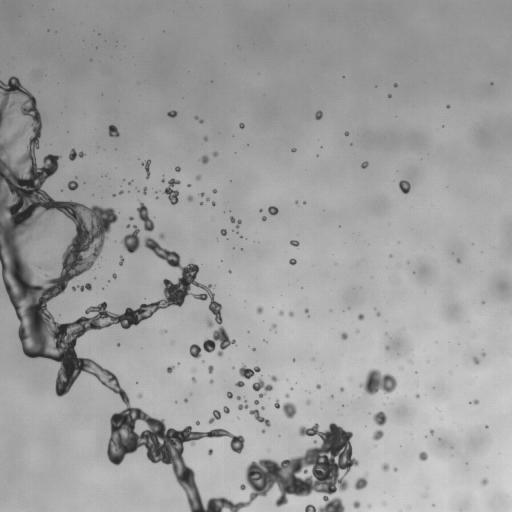droplet: (359, 369, 397, 395), (121, 225, 139, 253), (274, 399, 297, 418), (164, 178, 180, 204), (252, 378, 273, 397), (239, 364, 260, 379), (373, 411, 386, 425), (354, 476, 367, 490), (69, 149, 84, 160), (398, 180, 410, 193), (209, 410, 220, 423), (108, 125, 119, 137), (230, 216, 241, 228), (67, 180, 78, 190), (373, 430, 384, 440), (268, 206, 278, 215), (418, 451, 427, 461), (200, 155, 209, 163), (167, 110, 177, 117), (238, 402, 248, 409), (381, 463, 389, 471), (315, 110, 322, 119), (290, 240, 299, 247), (256, 306, 263, 314), (361, 161, 368, 168), (289, 258, 296, 265), (340, 332, 347, 339), (481, 478, 488, 485), (353, 501, 360, 508), (270, 375, 278, 381), (236, 381, 244, 387), (473, 357, 479, 364), (167, 366, 174, 372), (223, 406, 229, 413), (208, 365, 213, 373), (220, 229, 226, 235), (471, 399, 478, 404), (358, 314, 363, 320), (227, 392, 232, 398), (119, 257, 123, 264), (239, 123, 244, 128), (175, 166, 180, 171), (187, 196, 192, 201), (159, 234, 164, 239), (288, 312, 293, 317), (271, 324, 276, 329), (143, 187, 147, 193), (208, 449, 212, 455), (196, 175, 200, 180), (262, 216, 266, 221), (112, 273, 116, 278), (279, 310, 283, 315), (316, 384, 320, 389), (203, 136, 207, 140), (213, 152, 217, 156), (212, 189, 216, 193), (119, 190, 123, 194), (200, 192, 204, 196), (129, 216, 133, 220), (304, 309, 308, 313), (192, 378, 196, 382), (254, 400, 258, 404), (306, 400, 310, 404), (261, 429, 265, 433), (393, 467, 397, 471), (430, 429, 433, 434), (345, 131, 348, 135), (212, 201, 215, 205), (126, 224, 130, 227), (376, 313, 380, 316), (209, 380, 213, 383), (285, 394, 289, 397), (394, 83, 397, 86), (388, 94, 391, 97), (292, 148, 295, 151), (128, 181, 131, 184), (206, 198, 209, 201), (457, 259, 460, 262), (385, 346, 388, 349), (340, 388, 343, 391), (139, 394, 142, 397), (416, 394, 419, 397), (237, 396, 240, 399), (184, 399, 187, 402), (196, 421, 199, 424), (313, 440, 316, 443), (447, 105, 449, 108), (228, 270, 231, 272), (482, 353, 485, 355), (261, 407, 264, 409), (162, 179, 164, 181), (188, 184, 190, 186), (200, 202, 202, 204), (259, 209, 261, 211), (117, 343, 119, 345), (293, 359, 295, 361)
ligament: (0, 80, 350, 511), (137, 202, 154, 231), (249, 409, 270, 426), (143, 159, 150, 178), (72, 283, 91, 290), (24, 234, 31, 242), (195, 116, 202, 123)
